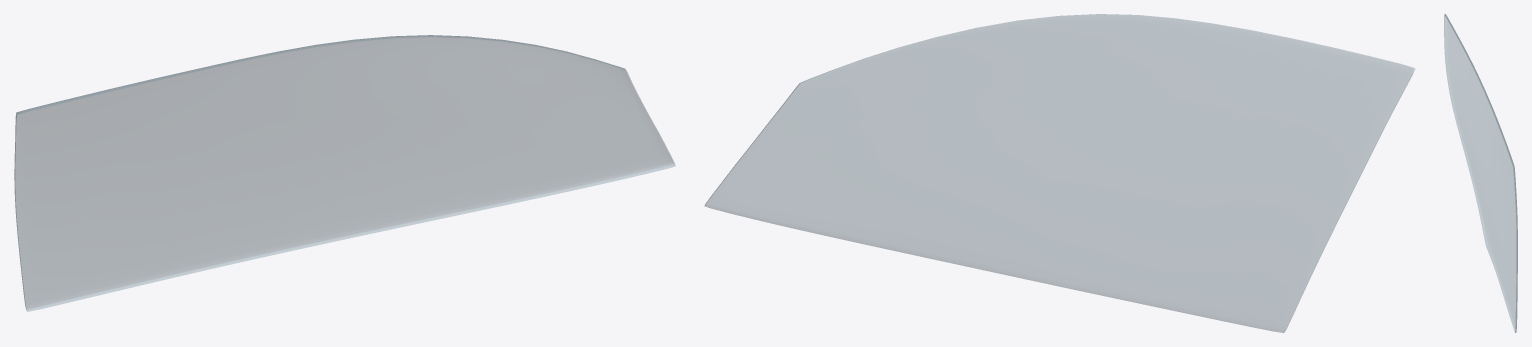
3 renders of one model, left to right at view 1: azimuth 30°, elevation 25°; view 2: azimuth 150°, elevation 25°; view 3: azimuth 270°, elevation 25°, orthographic. The views are drawn at different scales.
Visible parts, largest first — view 1: SM_DodgeChargerCop_Door_FL_Glass_Ext1; view 2: SM_DodgeChargerCop_Door_FL_Glass_Ext1; view 3: SM_DodgeChargerCop_Door_FL_Glass_Ext1.
Boxes of the visible parts, x1=… form: SM_DodgeChargerCop_Door_FL_Glass_Ext1: x1=14, y1=35, x2=675, y2=311; SM_DodgeChargerCop_Door_FL_Glass_Ext1: x1=704, y1=14, x2=1414, y2=332; SM_DodgeChargerCop_Door_FL_Glass_Ext1: x1=1444, y1=14, x2=1517, y2=332.
Size of the model in its own units: 0.9381 by 0.3491 by 0.1648.
